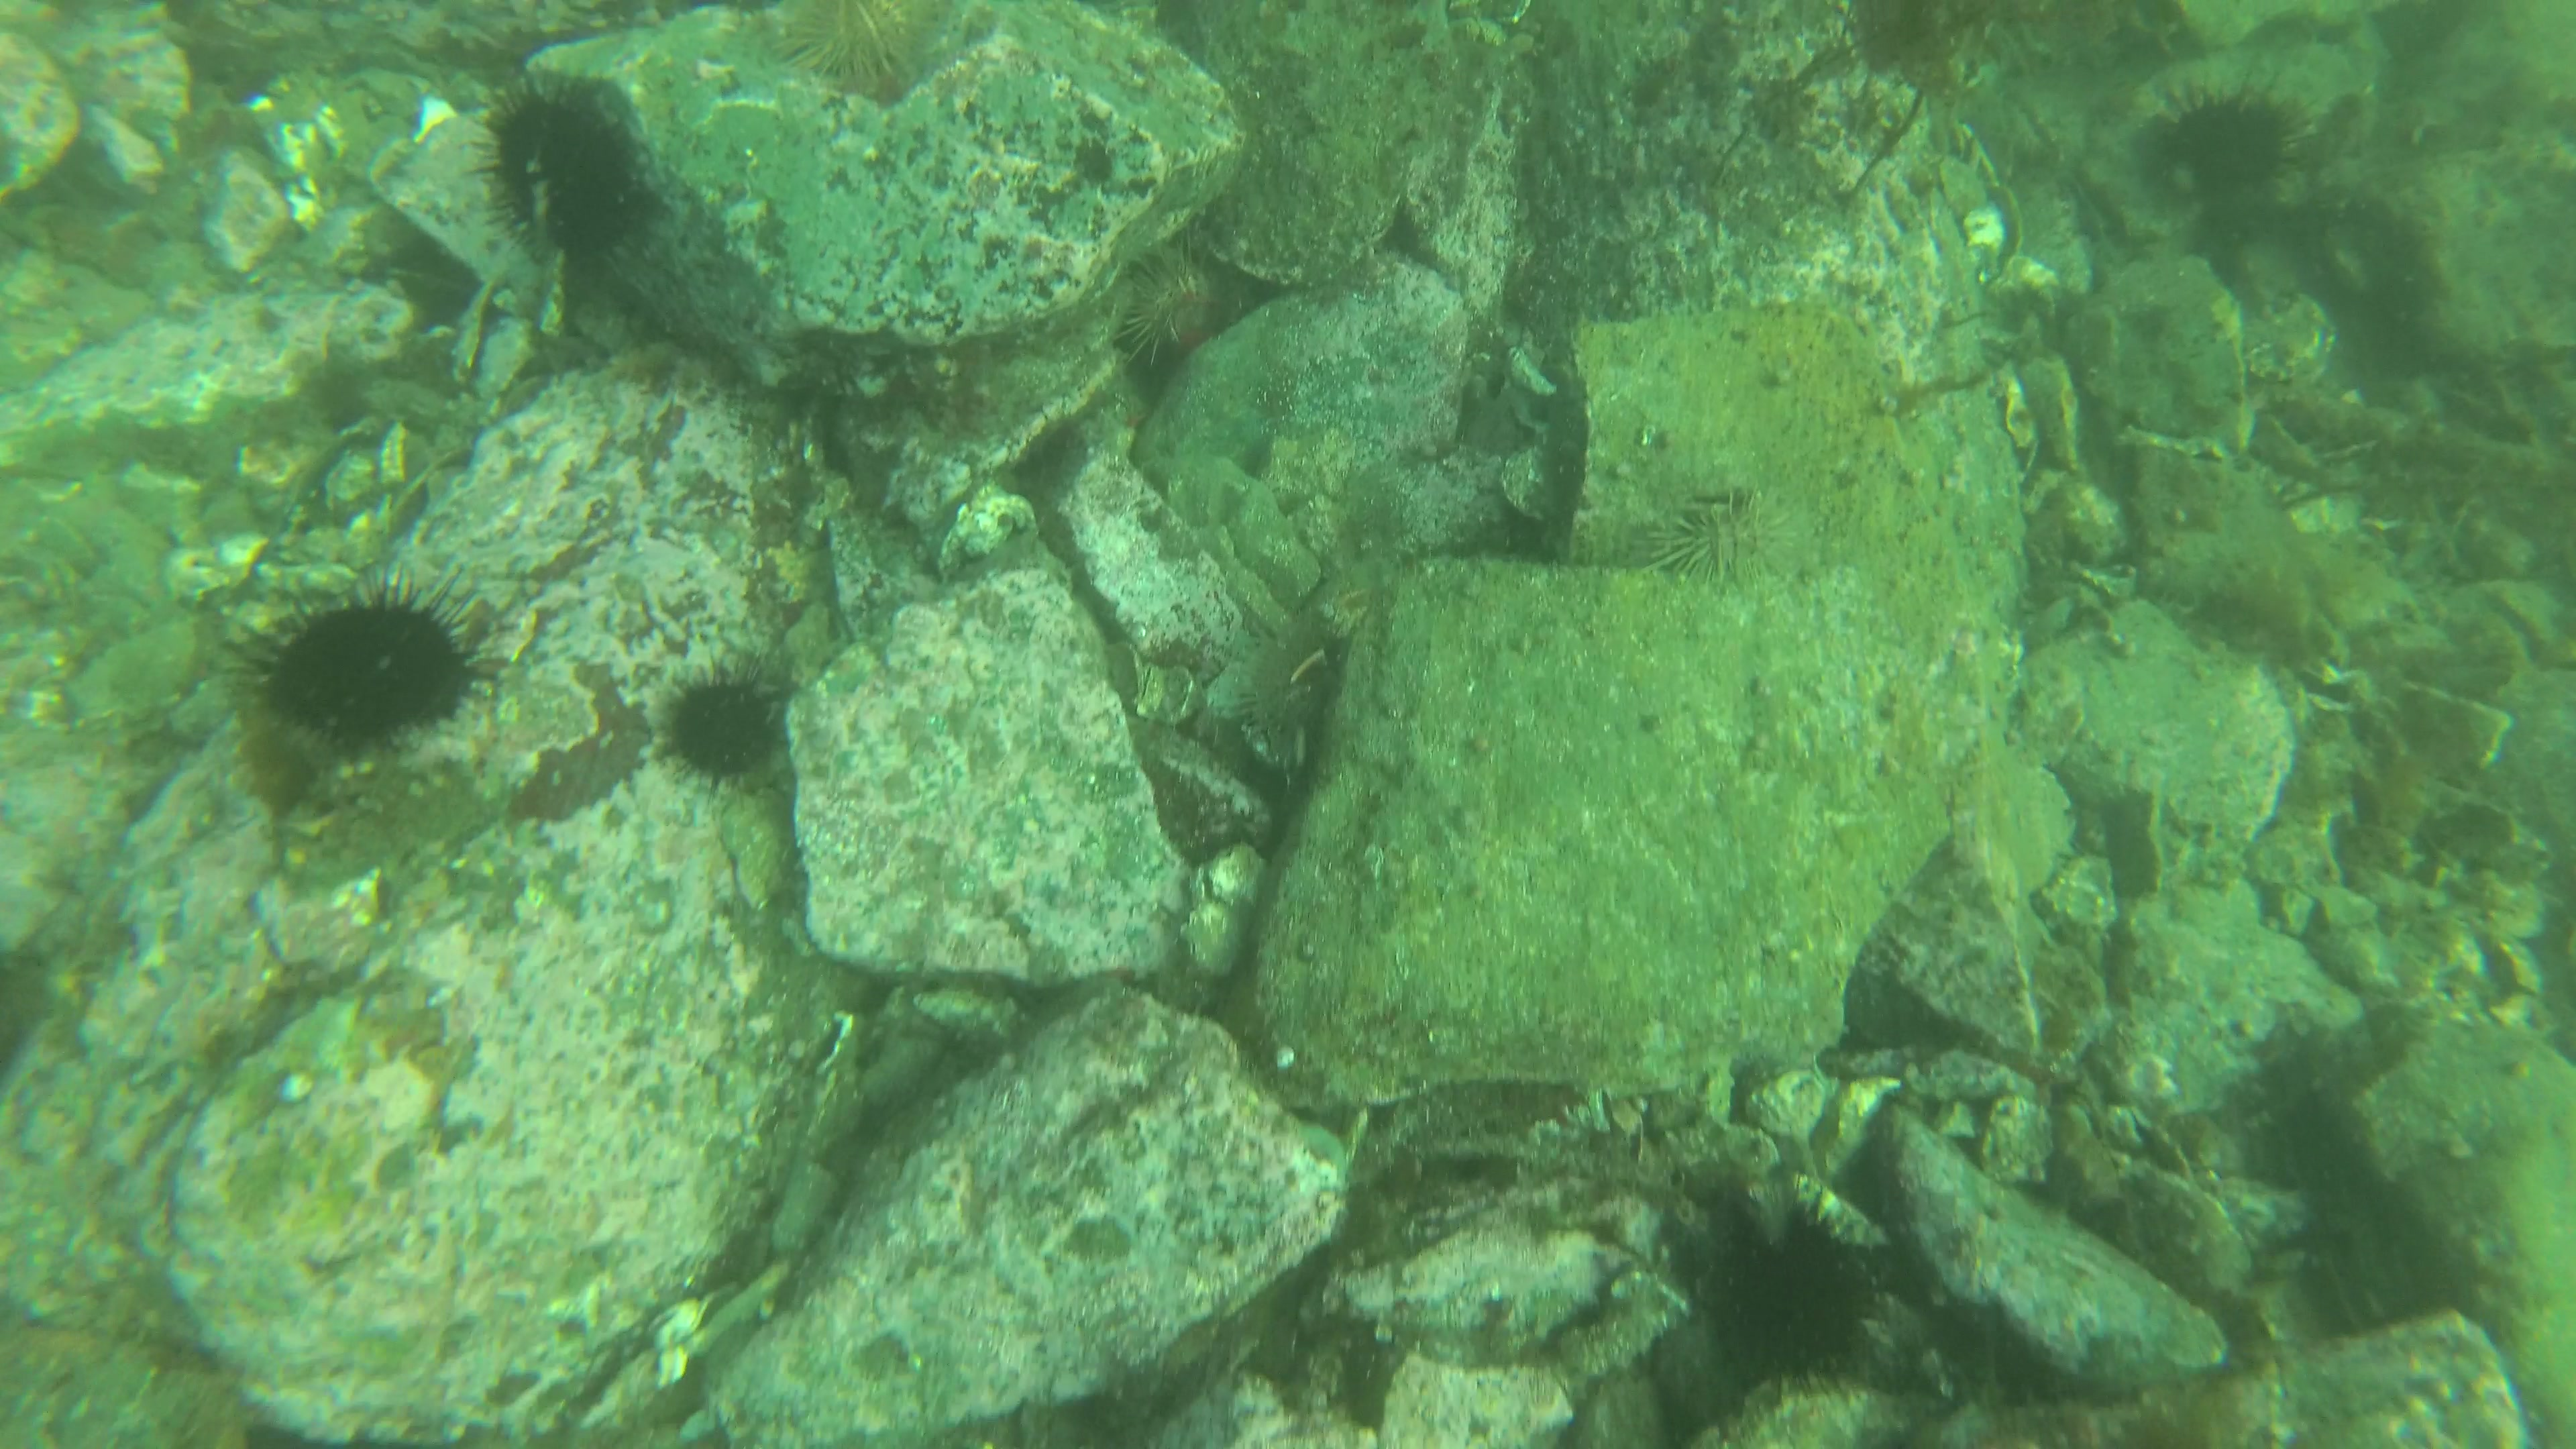echinus: (216, 586, 510, 745), (1690, 1203, 1911, 1408), (465, 73, 651, 278), (651, 656, 812, 798), (2160, 69, 2307, 209), (1640, 483, 1808, 593), (1233, 609, 1357, 748), (1111, 241, 1224, 361), (766, 0, 929, 78)
